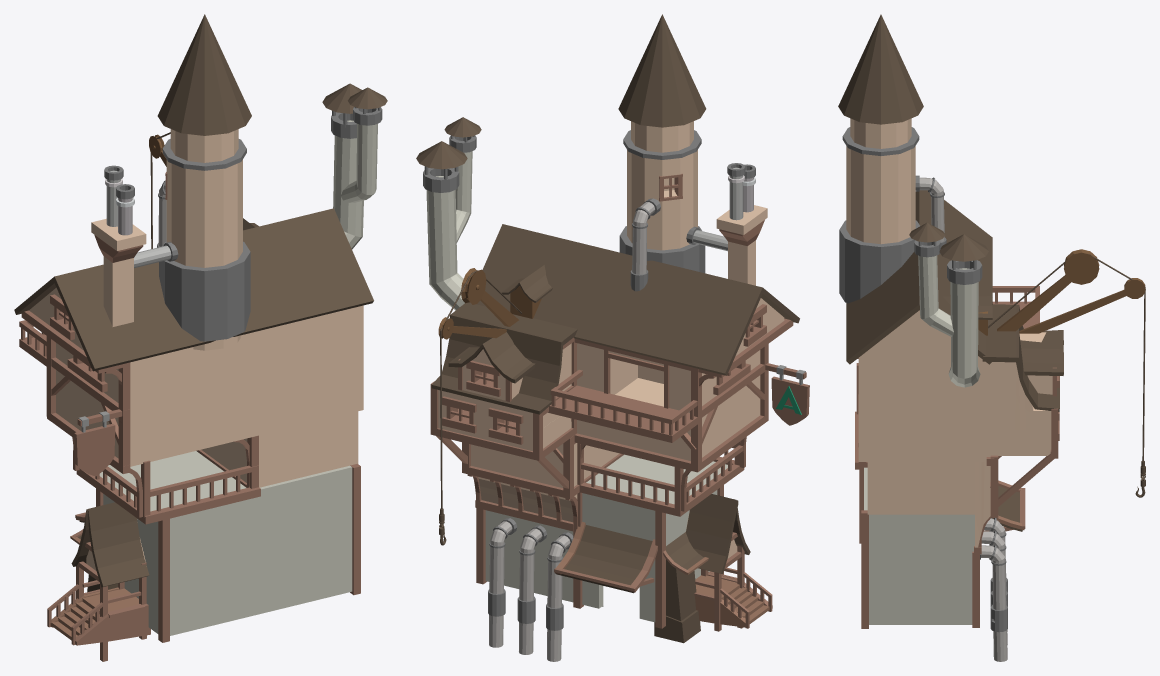
The model's file is STEAMPUNK HOUSE.fbx.
The picture shows the model from 3 angles, left to right: view 1: azimuth 30°, elevation 25°; view 2: azimuth 150°, elevation 25°; view 3: azimuth 270°, elevation 25°; orthographic projection. The views are drawn at different scales.
Parts seen in each view (by area): view 1: Cube.111; view 2: Cube.111; view 3: Cube.111.
Boxes of the visible parts, x1=… form: Cube.111: x1=14, y1=14, x2=387, y2=661; Cube.111: x1=416, y1=14, x2=809, y2=661; Cube.111: x1=838, y1=14, x2=1145, y2=661.
Size of the model in its own units: 3010 by 5270 by 2469.
